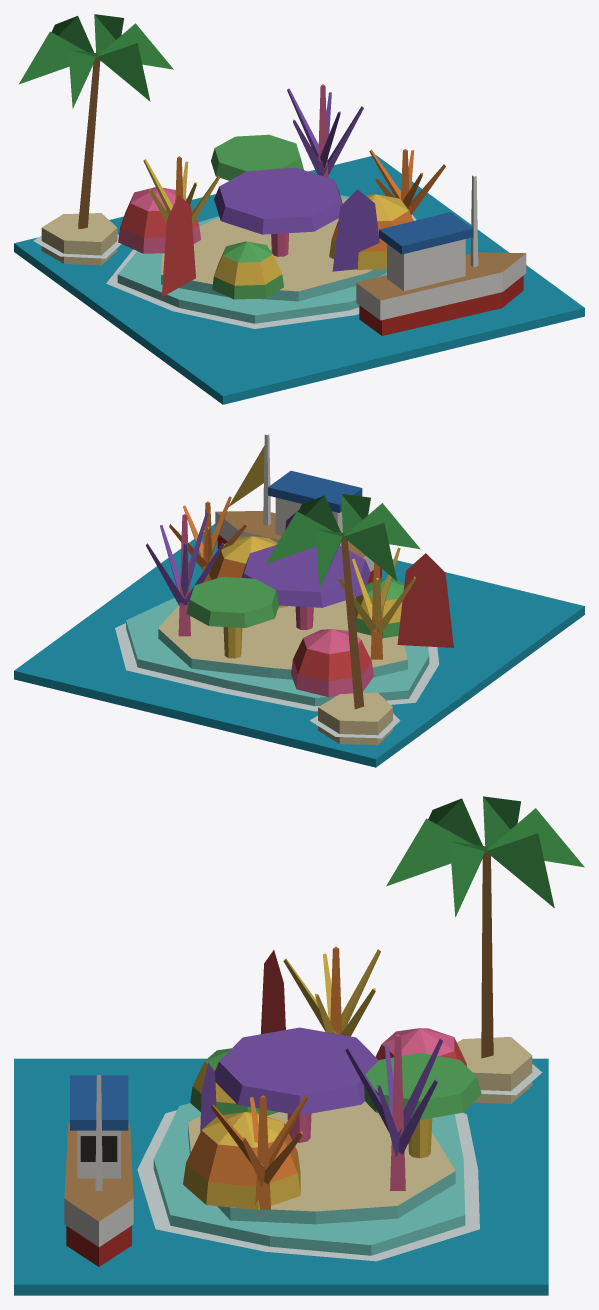
File: recifCairns.glb
The picture shows the model from 3 angles, top to bottom: view 1: azimuth 30°, elevation 25°; view 2: azimuth 150°, elevation 25°; view 3: azimuth 270°, elevation 25°; orthographic projection. The views are drawn at different scales.
Parts seen in each view (by area): view 1: recifCairns; view 2: recifCairns; view 3: recifCairns.
Boxes of the visible parts, box(x1,y1,x2,y2) form: recifCairns: box(14, 14, 584, 404); recifCairns: box(14, 434, 584, 767); recifCairns: box(14, 796, 584, 1295).
Bounding box in the file's own units: 1.8 × 1.03 × 1.88.
